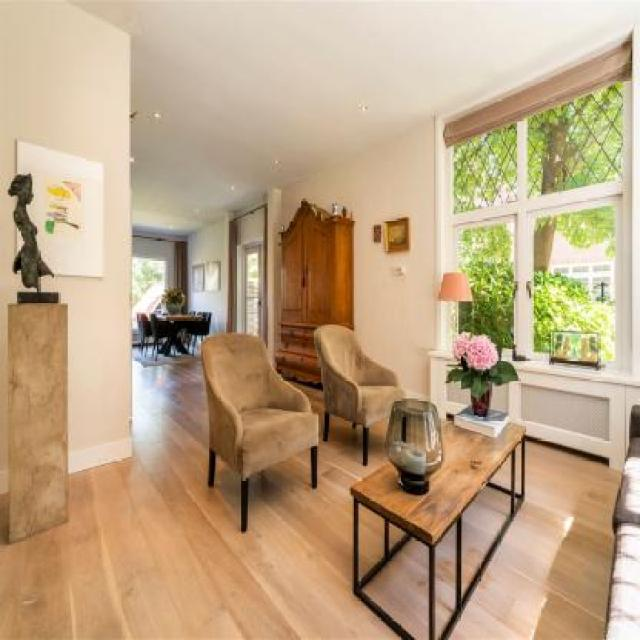floor: (0, 356, 415, 640), (452, 431, 617, 640)
